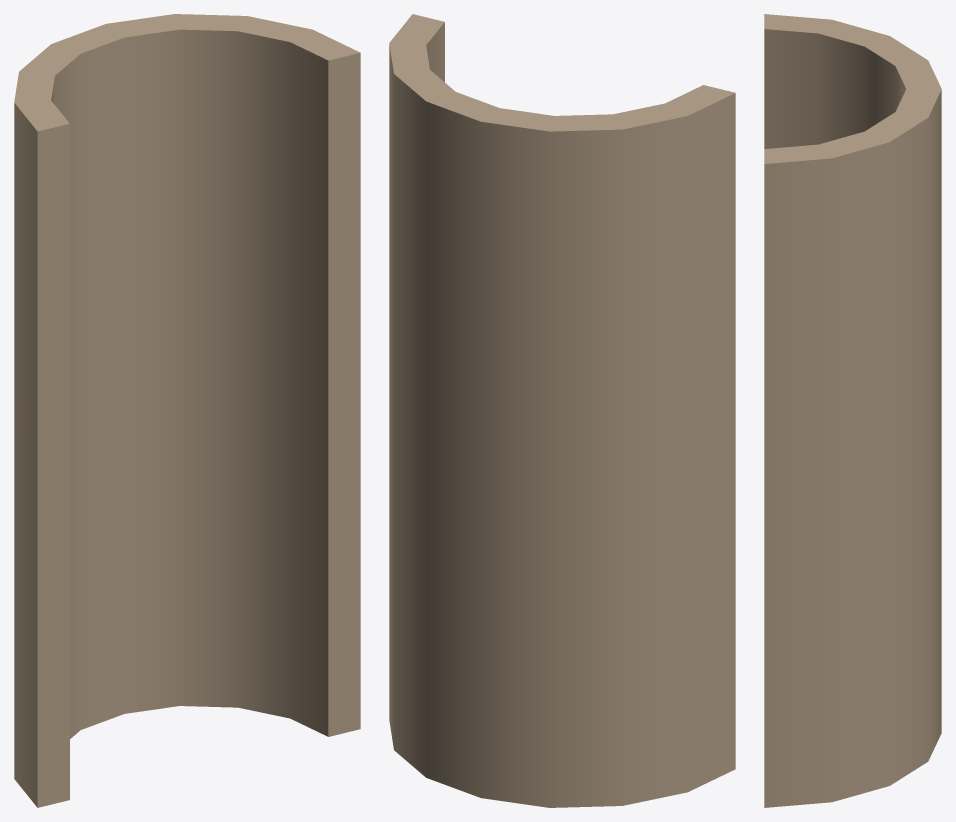
File: WallLamp02.FBX
The picture shows the model from 3 angles, left to right: view 1: azimuth 30°, elevation 25°; view 2: azimuth 150°, elevation 25°; view 3: azimuth 270°, elevation 25°; orthographic projection. The views are drawn at different scales.
Parts seen in each view (by area): view 1: WallLamp02; view 2: WallLamp02; view 3: WallLamp02.
Part boxes in pixels (bbox=[...]): WallLamp02: bbox=[14, 14, 360, 807]; WallLamp02: bbox=[389, 14, 735, 807]; WallLamp02: bbox=[764, 14, 941, 807].
Bounding box in the file's own units: 19.69 × 39.37 × 9.84.
